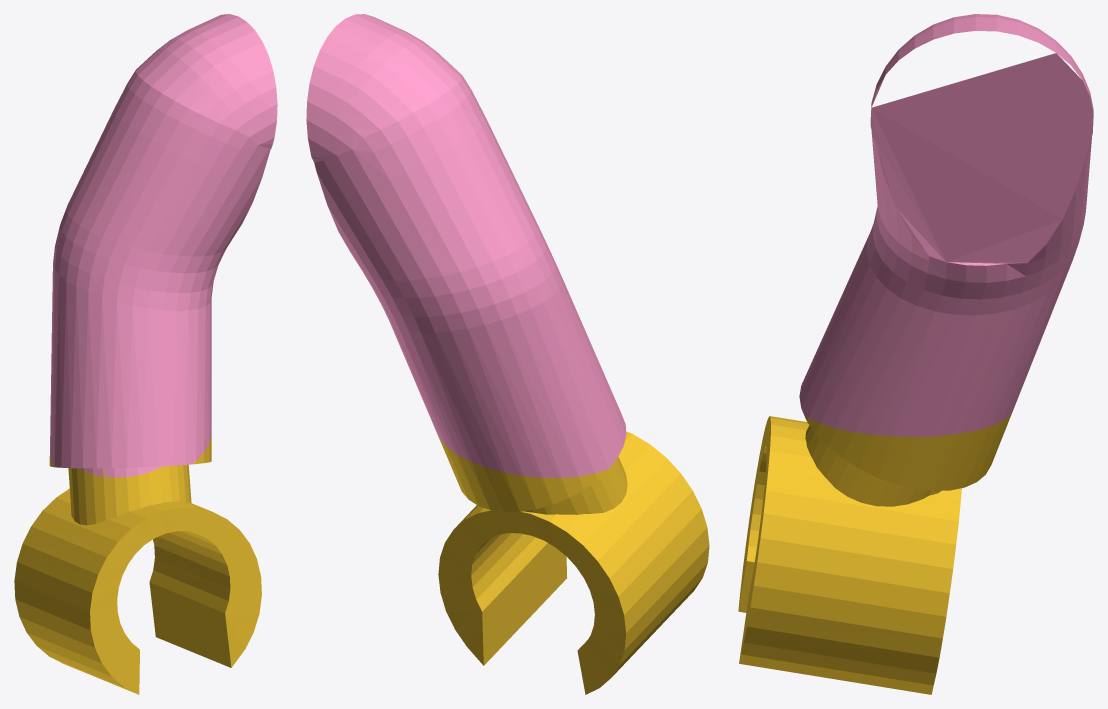
The model's file is armL.glb.
3 renders of one model, left to right at view 1: azimuth 30°, elevation 25°; view 2: azimuth 150°, elevation 25°; view 3: azimuth 270°, elevation 25°, orthographic. The views are drawn at different scales.
Parts seen in each view (by area): view 1: lumi_armL; view 2: lumi_armL; view 3: lumi_armL.
Part boxes in pixels (x1,y1,x2,y2): lumi_armL: (14,14,277,694); lumi_armL: (306,14,709,694); lumi_armL: (738,14,1093,694).
Bounding box in the file's own units: 0.325 × 0.7369 × 0.322.
